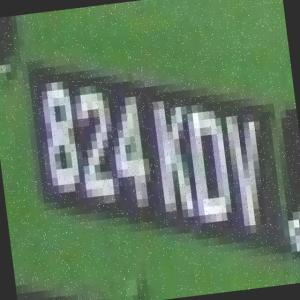Plate: (3, 8, 300, 296)
